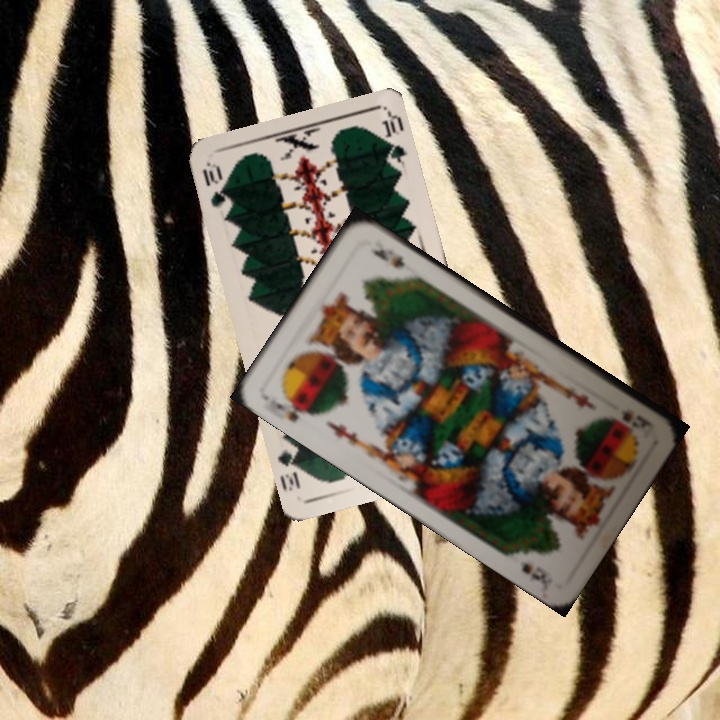G10: (198, 159, 231, 210)
SK: (271, 391, 317, 425), (617, 408, 657, 432)
